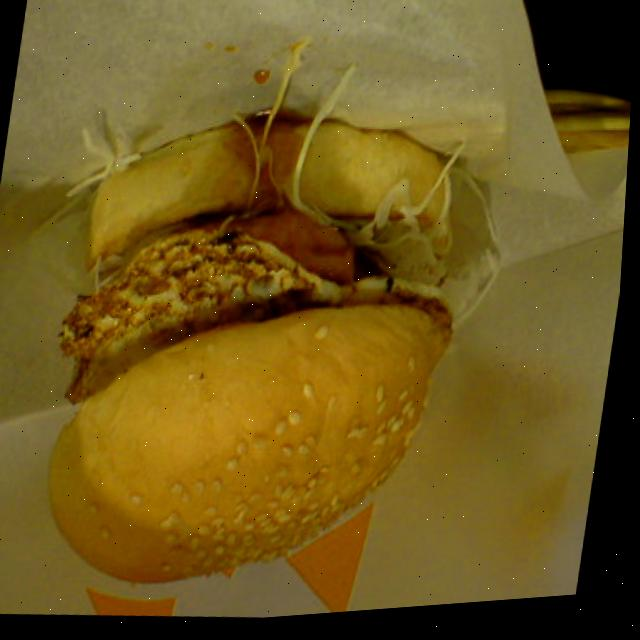汉堡快餐: (4, 90, 516, 638)
